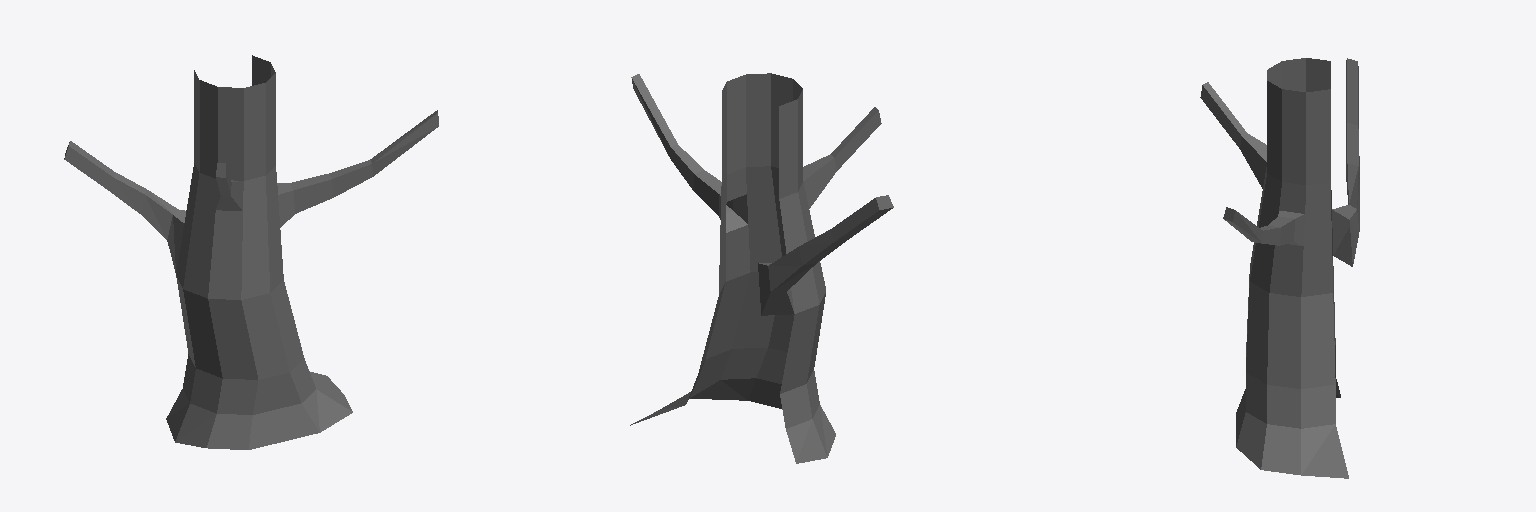
Rendered from cerisier02.obj.
The picture shows the model from 3 angles: view 1: azimuth 30°, elevation 25°; view 2: azimuth 150°, elevation 25°; view 3: azimuth 270°, elevation 25°; orthographic projection.
Size of the model in its own units: 3.13 by 3.33 by 1.36.